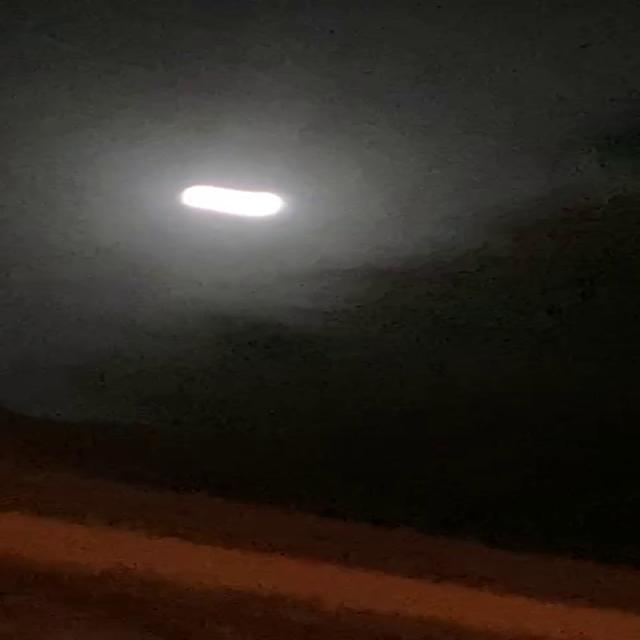moon: (168, 186, 285, 220)
